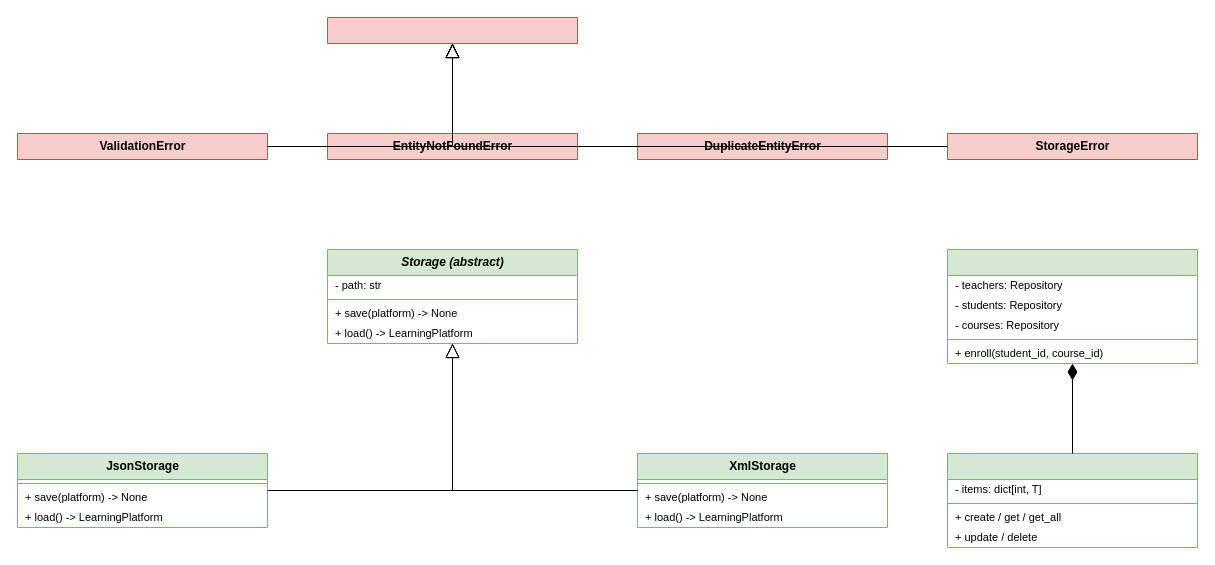
This 1215x565 diagram has some shape labels left out. The box of each missing label's shape, as (x1, y1, x2, y2) in pixels:
LearningError: (326, 16, 578, 44)
LearningPlatform: (946, 248, 1198, 364)
Repository[T]: (946, 452, 1198, 548)
